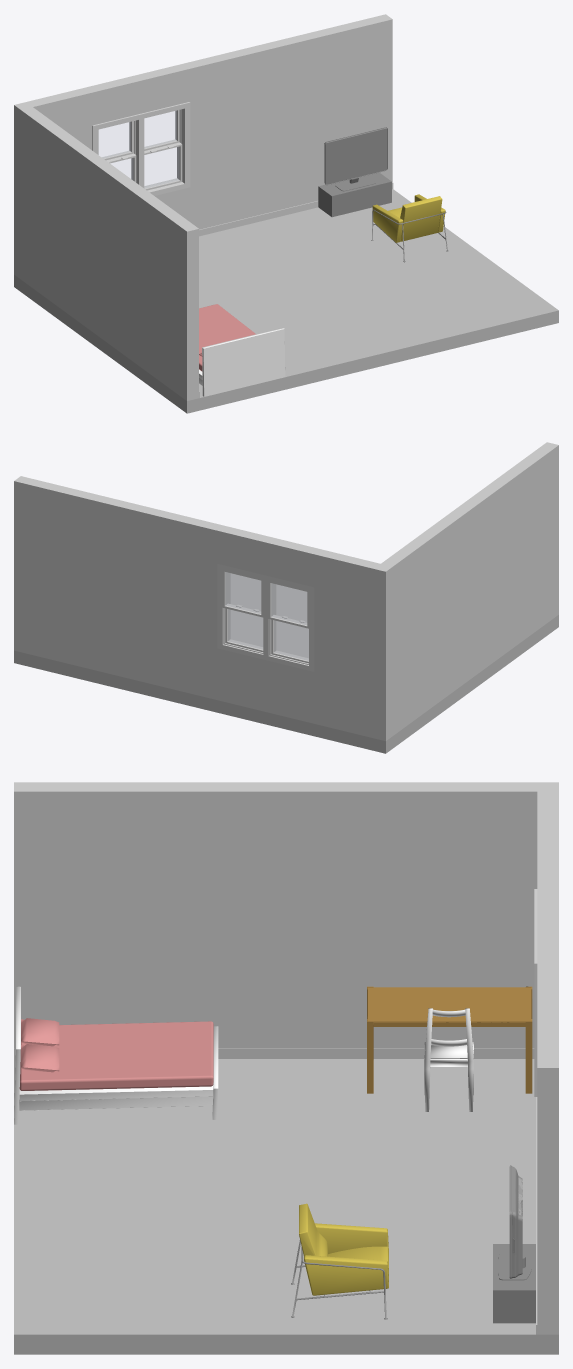
The model's file is L16_W20_furniture3_circulation2.glb.
3 views of the same model, one above another, from view 1: azimuth 30°, elevation 25°; view 2: azimuth 150°, elevation 25°; view 3: azimuth 270°, elevation 25° (orthographic). The views are drawn at different scales.
Bounding box in the file's own units: 248 × 116 × 200.
